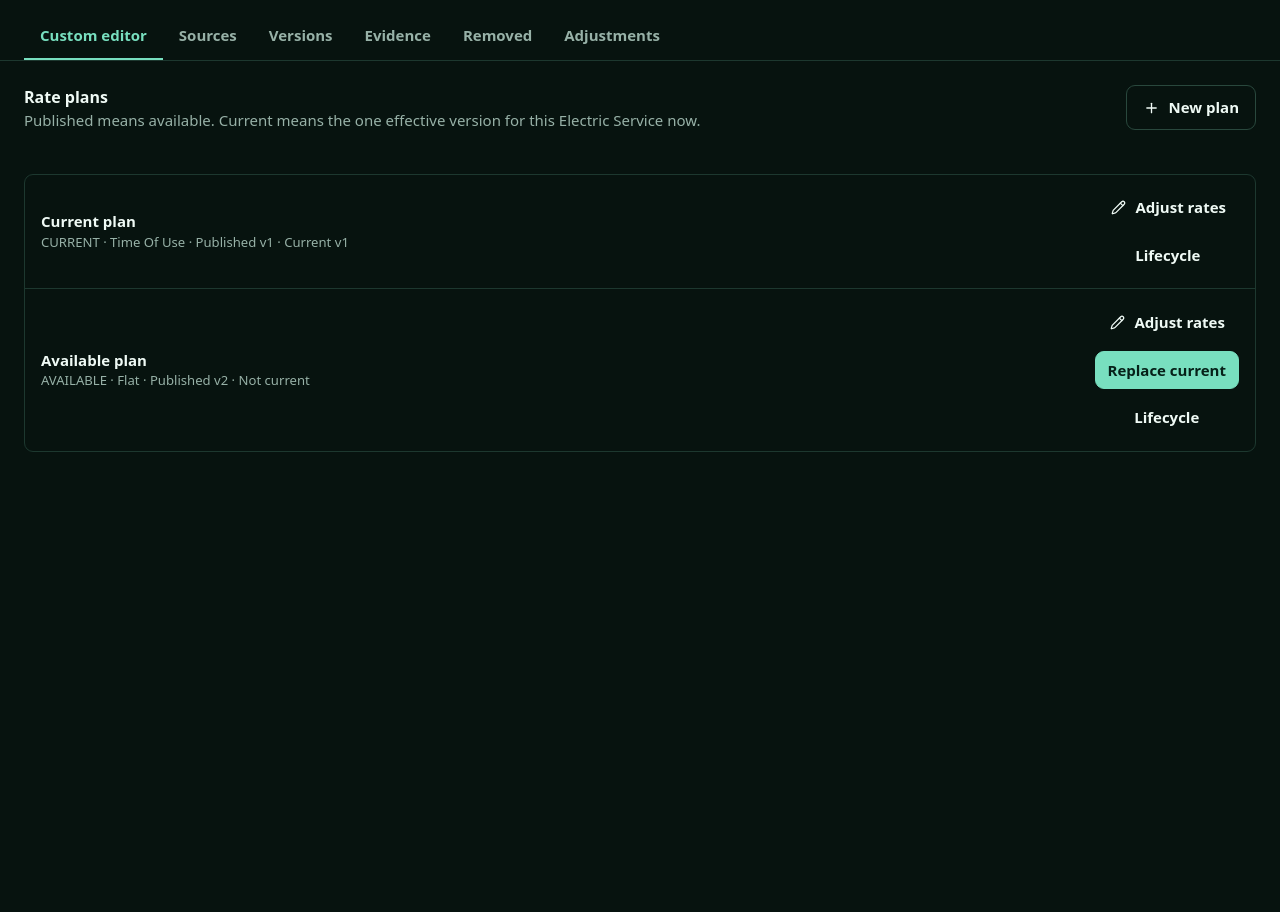
it: rate assignment, version, and source workflows › renders Published and Current independently and offers same-plan adjustment
Expected: the text "Published means available" is shown, [24,110,700,130]
Expected: the text "CURRENT · Time Of Use · Published v1 · Current v1" is shown, [41,233,349,252]
What coordinates should you click on to do the following:
click the button "Replace current"
I would click on:
 (1167, 370)
Its box is [1094,350,1239,389].
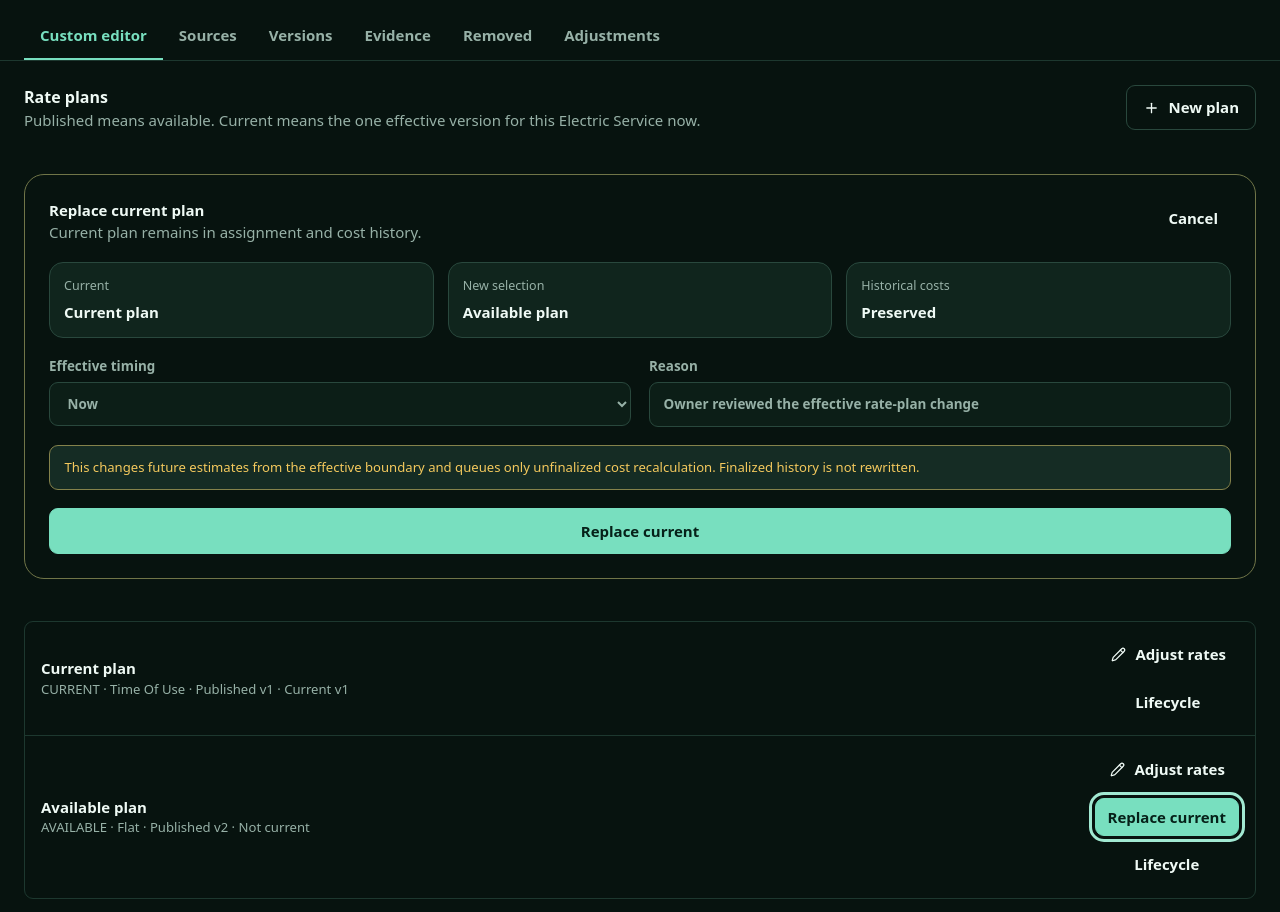
Expected: the element "Replace current plan" is shown, [24,174,1256,579]
Expected: the text "Current plan remains in assignment and cost history." is shown, [49,221,422,244]
Expected: the text "Historical costs" is shown, [861,276,950,294]
